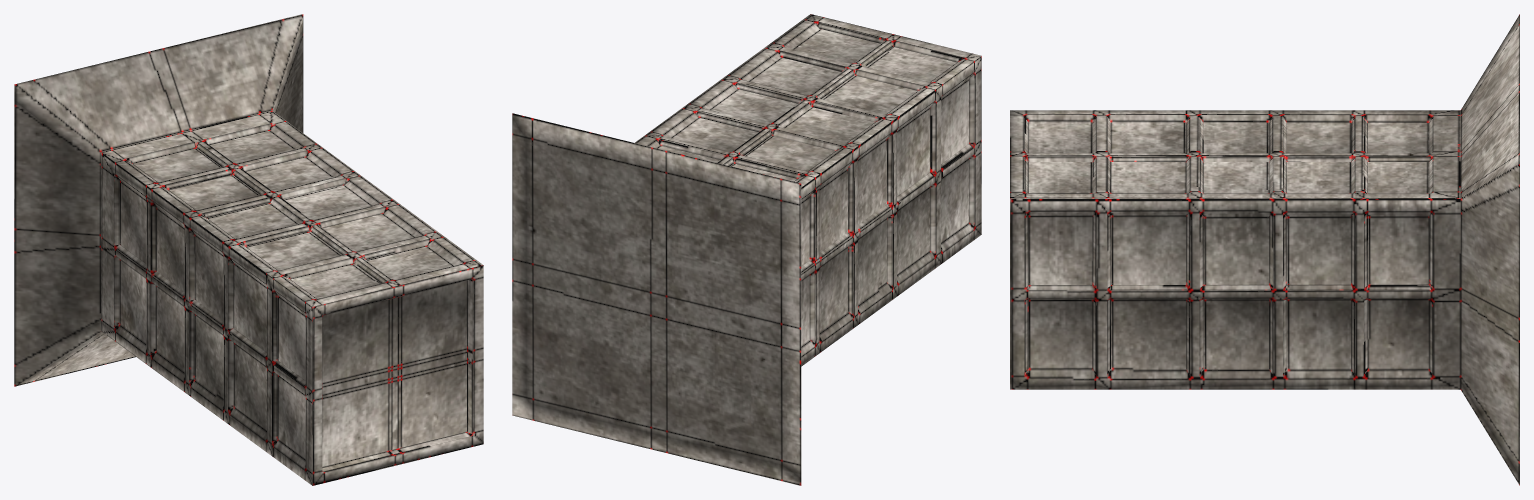
File: building_tower_xna.fbx
3 renders of one model, left to right at view 1: azimuth 30°, elevation 25°; view 2: azimuth 150°, elevation 25°; view 3: azimuth 270°, elevation 25°, orthographic. The views are drawn at different scales.
Visible parts, largest first — view 1: Cube; view 2: Cube; view 3: Cube.
Boxes of the visible parts, <box> form: Cube: <box>14,14,483,485</box>; Cube: <box>512,14,981,485</box>; Cube: <box>1010,14,1519,485</box>.
Bounding box in the file's own units: 3.38 × 3.38 × 4.85.
1 material, 1 textured.
